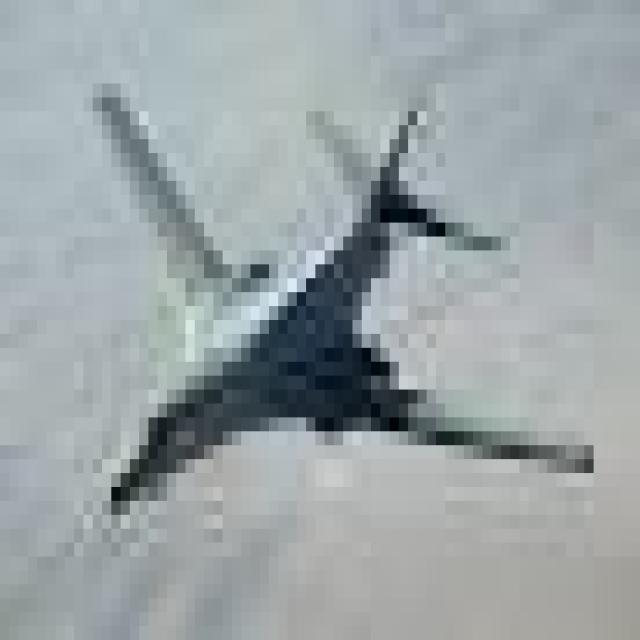B1: (61, 50, 612, 550)
